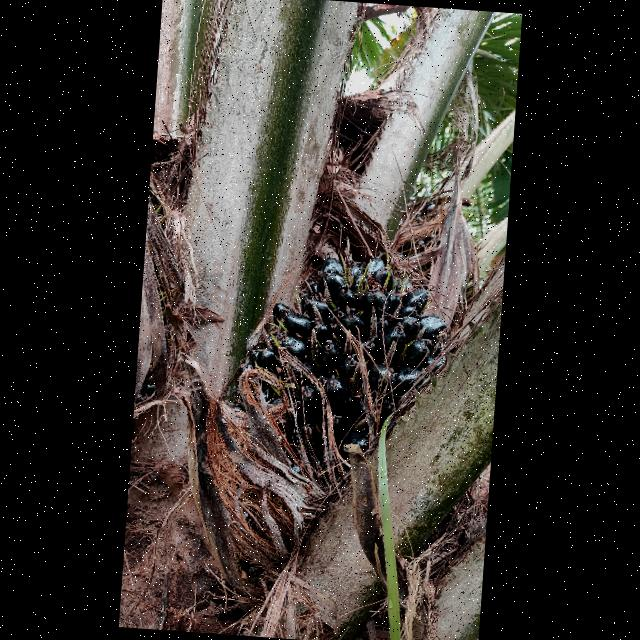Unripe: (262, 250, 445, 480)
